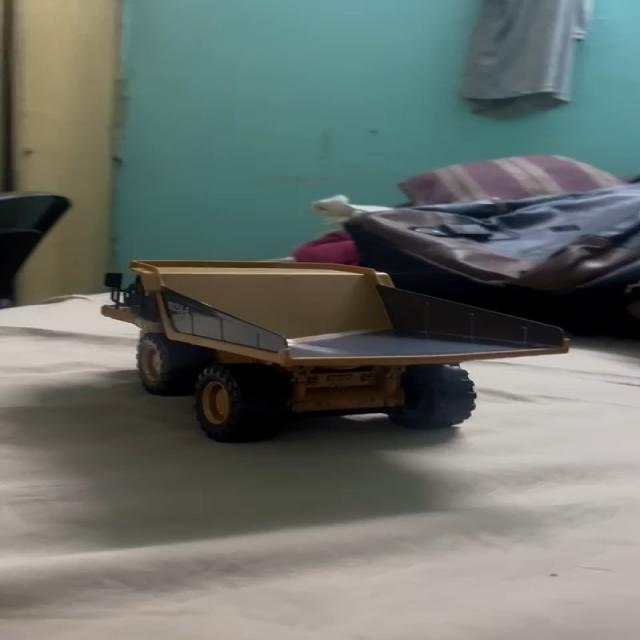dump_truck: (104, 258, 581, 442)
